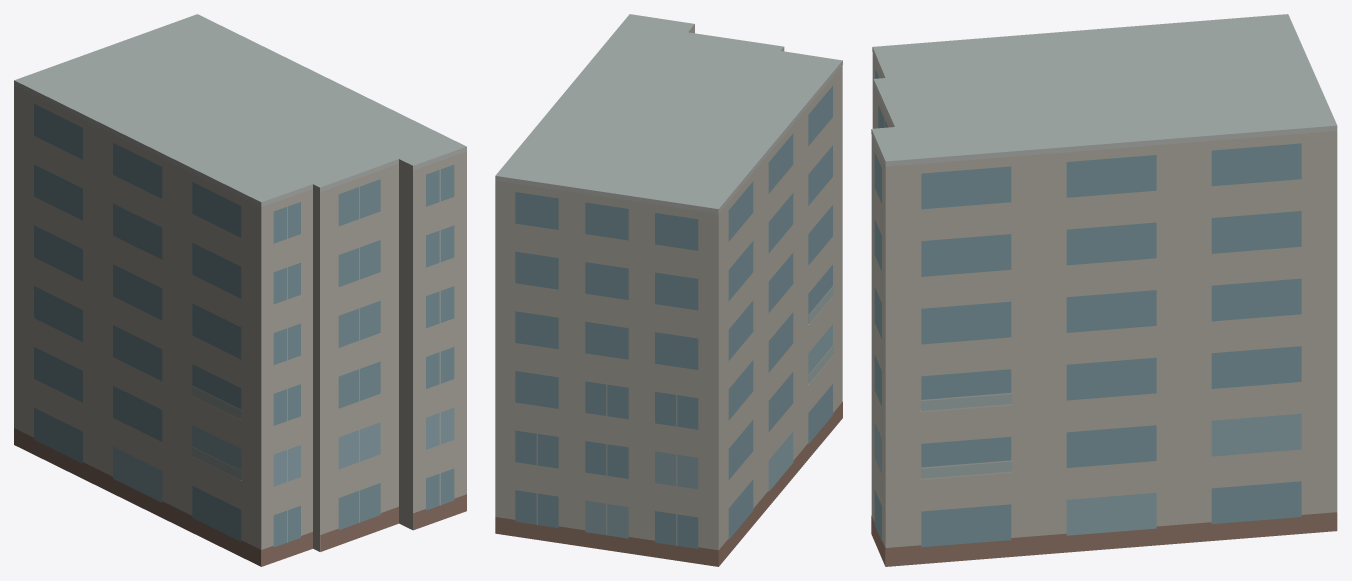
The model's file is survey-upis-33016586.glb.
3 views of the same model, side by side, from view 1: azimuth 30°, elevation 25°; view 2: azimuth 150°, elevation 25°; view 3: azimuth 270°, elevation 25° (orthographic). The views are drawn at different scales.
Visible parts, largest first — view 1: survey-upis-33016586.tmp; view 2: survey-upis-33016586.tmp; view 3: survey-upis-33016586.tmp.
Part boxes in pixels (x1,y1,x2,y2): survey-upis-33016586.tmp: [14, 14, 466, 566]; survey-upis-33016586.tmp: [495, 14, 842, 566]; survey-upis-33016586.tmp: [871, 14, 1337, 566].
Bounding box in the file's own units: 14.6 × 18.7 × 19.49.
